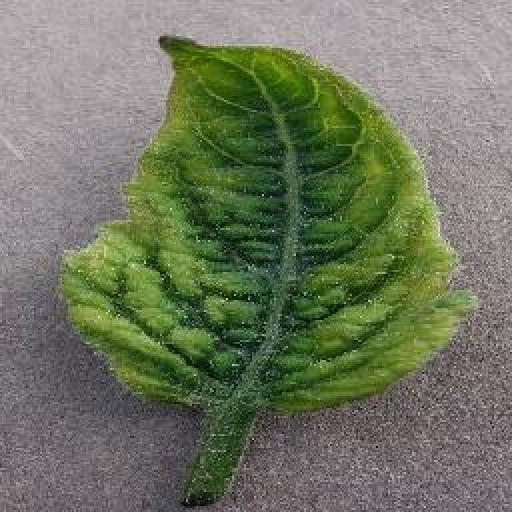Yellow Leaf Curl Virus: (56, 35, 479, 412)
